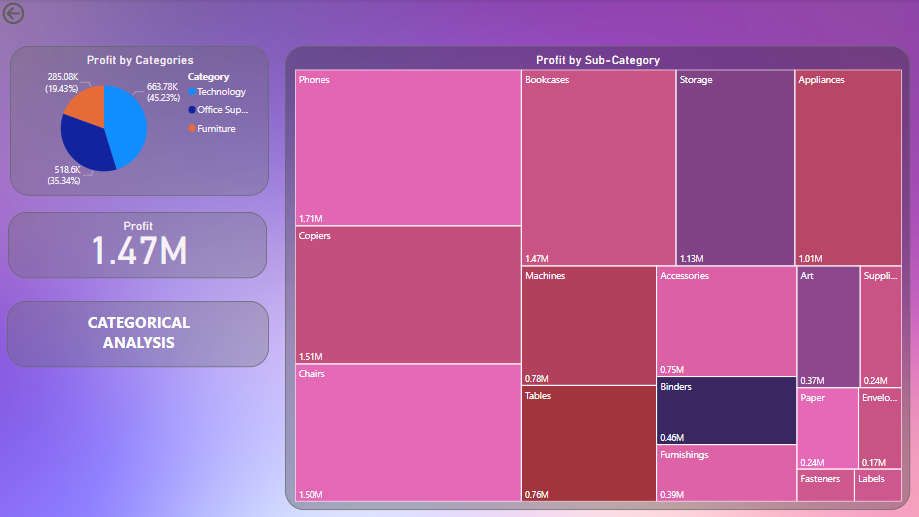

The page's visual inventory and layout, read from the dashboard file:
{"tool":"powerbi","page":{"name":"Categories of Products","canvas":[1280,720],"ordinal":1},"visuals":[{"type":"card","title":"Profit","fields":{"Values":["Sum(Orders.Profit)"]},"box":[12.5,296.1,360,91.7],"z":0},{"type":"pieChart","title":"Profit by Categories","fields":{"Category":["Orders.Category"],"Y":["Sum(Orders.Profit)"]},"box":[15.3,65.3,360,208.5],"z":1000},{"type":"textbox","box":[11.1,419.8,364.2,91.7],"z":2000},{"type":"treemap","title":"Profit by Sub-Category","fields":{"Group":["Orders.Sub-Category"],"Values":["Sum(Orders.Sales)"]},"box":[397.5,65.3,868.7,644.9],"z":3000},{"type":"actionButton","box":[0,0,100,40],"z":4000}]}

Visuals, with their boxes in screenshot pixels (x1, y1, x2, y2), scaled from the page's 1280x720 canvas onto the 919x517 screenshot:
"Profit" card: bbox=[9, 213, 267, 278]
"Profit by Categories" pieChart: bbox=[11, 47, 269, 197]
textbox: bbox=[8, 301, 269, 367]
"Profit by Sub-Category" treemap: bbox=[285, 47, 909, 510]
actionButton: bbox=[0, 0, 72, 29]
